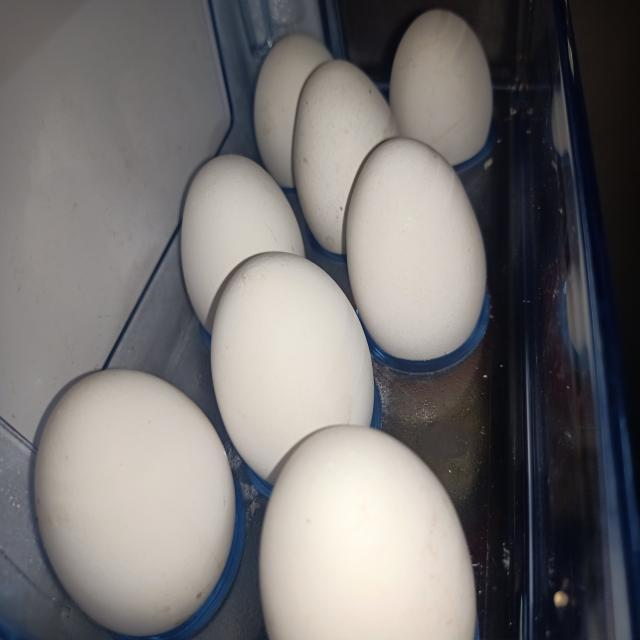Egg: (3, 359, 247, 640), (256, 418, 486, 640), (203, 252, 378, 484), (339, 133, 497, 369), (169, 146, 305, 332), (290, 47, 401, 263), (386, 7, 502, 165), (250, 28, 335, 194)
